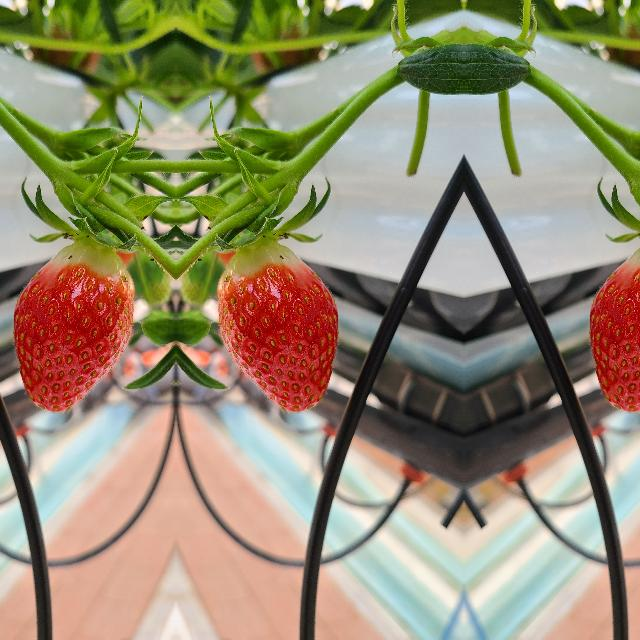Health_100: (216, 243, 340, 414), (10, 243, 134, 414), (586, 243, 640, 414)
